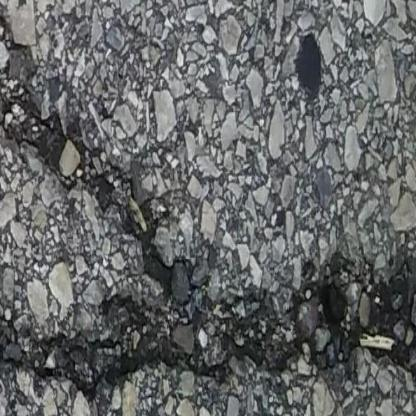Cracks: (0, 251, 416, 416), (0, 42, 216, 310)
